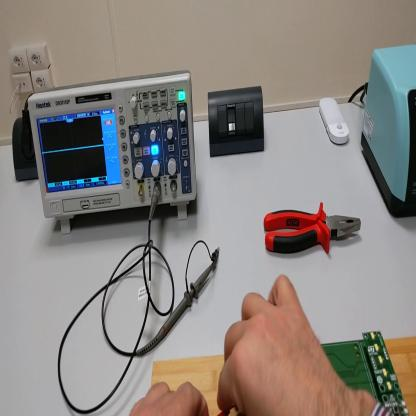hand: (214, 273, 344, 416), (130, 379, 210, 415)
low voltage board: (319, 334, 409, 416)
oscilloscope: (29, 69, 197, 240)
oscilloscope probe tip: (143, 264, 213, 353)
pliers: (264, 203, 362, 258)
socket: (12, 117, 39, 181)
welder station: (362, 46, 416, 219)
working area: (151, 335, 416, 416)
